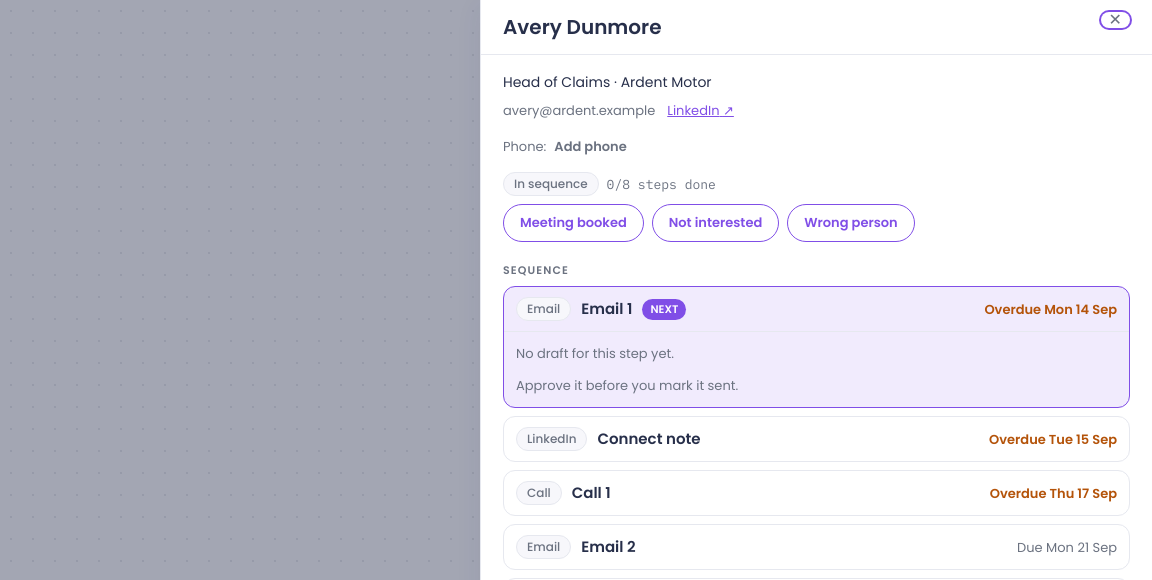
Try again › a failed draft being written again says so, not that Relay has given up
The image size is (1152, 580).
Click the button with test id "drawer-step-toggle". click: (552, 439)
box: [504,417,1129,461]
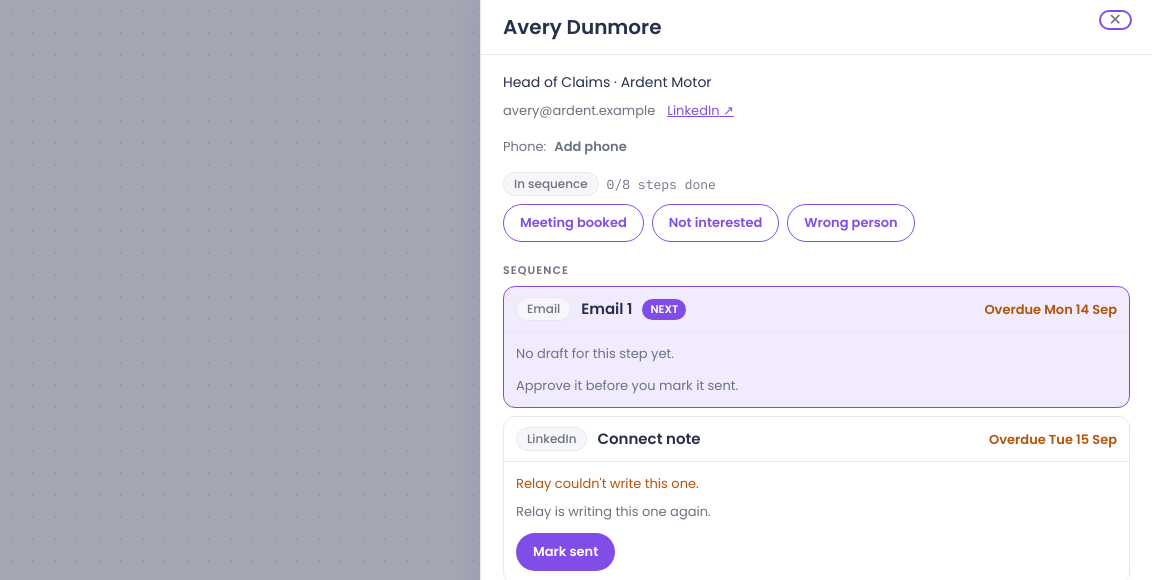
expect the text with test id "drawer-redrafting" reads "Relay is writing this one again.": met, box [516,502,711,521]
